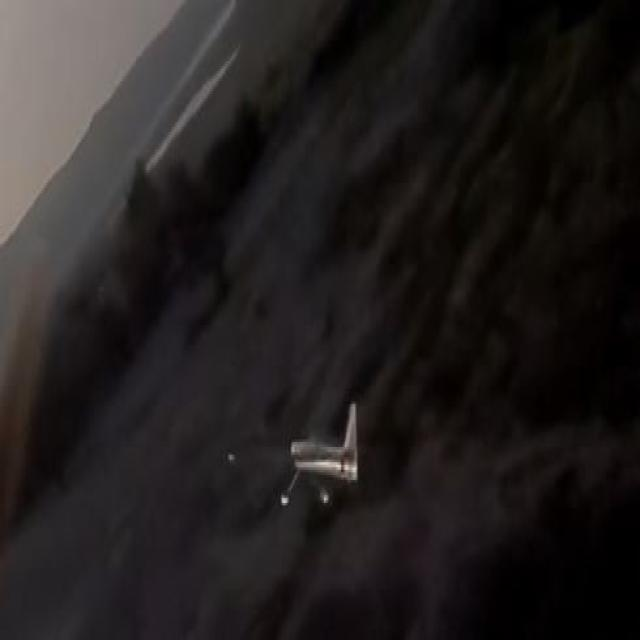iha: (225, 431, 377, 476)
